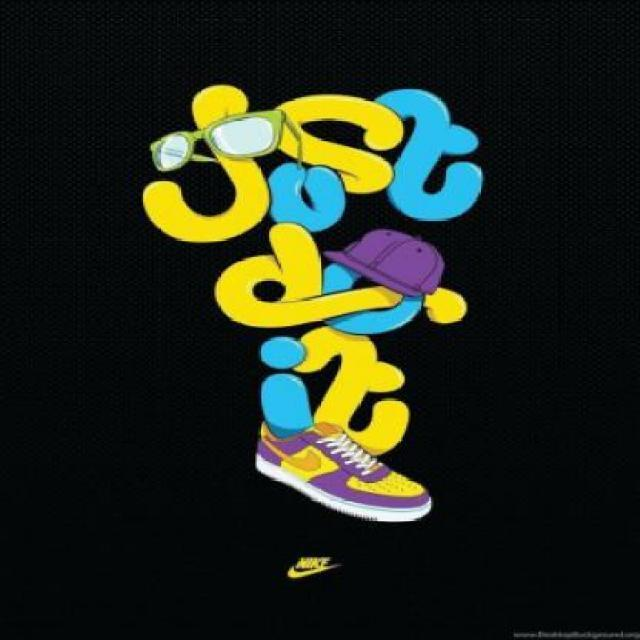Nike: (279, 551, 342, 579)
